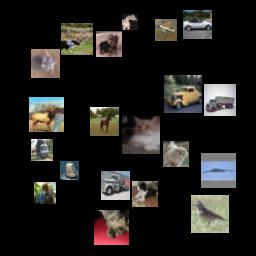airplane: (201, 153, 236, 188), (155, 19, 177, 41)
automobile: (164, 75, 202, 113), (183, 10, 212, 39)
bird: (191, 195, 229, 233), (34, 182, 56, 204)
cat: (122, 116, 160, 154), (94, 210, 129, 245), (31, 49, 60, 78)
deer: (29, 97, 64, 132), (61, 23, 93, 55)
dog: (96, 31, 122, 57), (132, 181, 158, 207), (163, 141, 189, 167)
ship: (60, 161, 79, 180)
truck: (204, 84, 236, 116), (101, 171, 130, 200), (31, 139, 53, 161)
